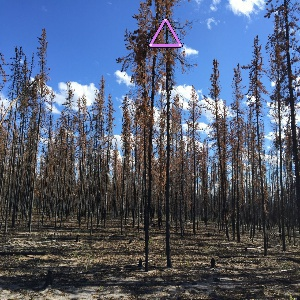triangle: (146, 16, 186, 50)
